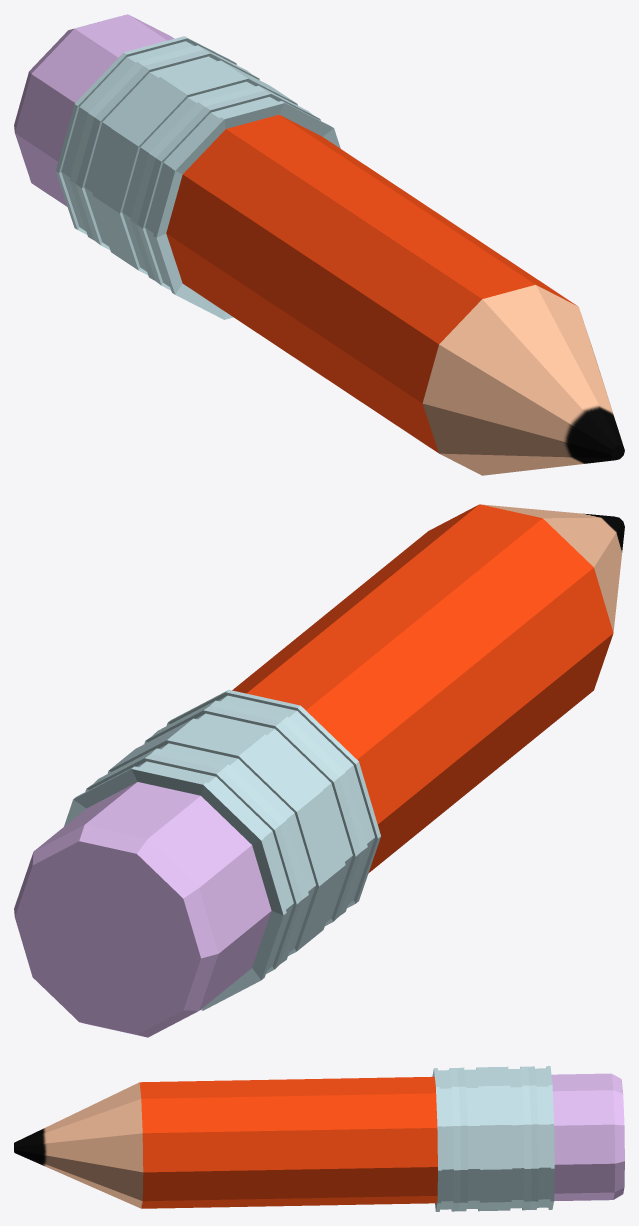
File: pencil.gltf
3 views of the same model, one above another, from view 1: azimuth 30°, elevation 25°; view 2: azimuth 150°, elevation 25°; view 3: azimuth 270°, elevation 25° (orthographic). The views are drawn at different scales.
Parts seen in each view (by area): view 1: Object_2; view 2: Object_2; view 3: Object_2.
Boxes of the visible parts, left/top/right/bottom form: Object_2: left=14, top=14, right=624, bottom=475; Object_2: left=14, top=504, right=624, bottom=1037; Object_2: left=14, top=1066, right=624, bottom=1211.
Size of the model in its own units: 1.2 by 1.07 by 4.76.
1 material, 1 textured.
